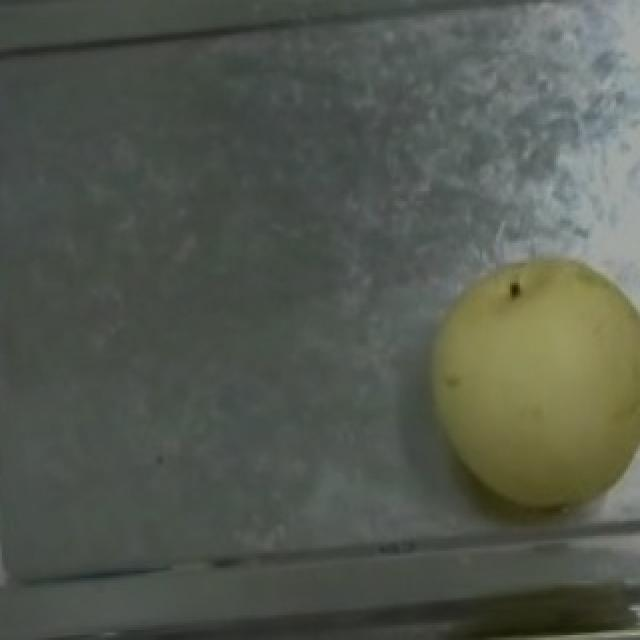Fruit: (404, 238, 640, 521)
